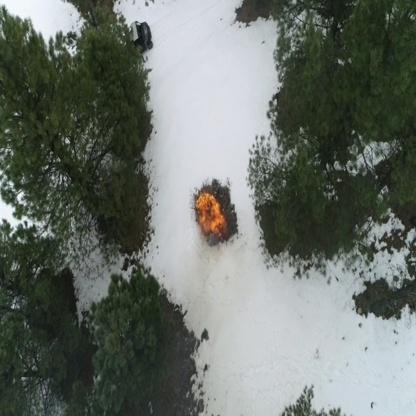Fire: (193, 190, 228, 245)
